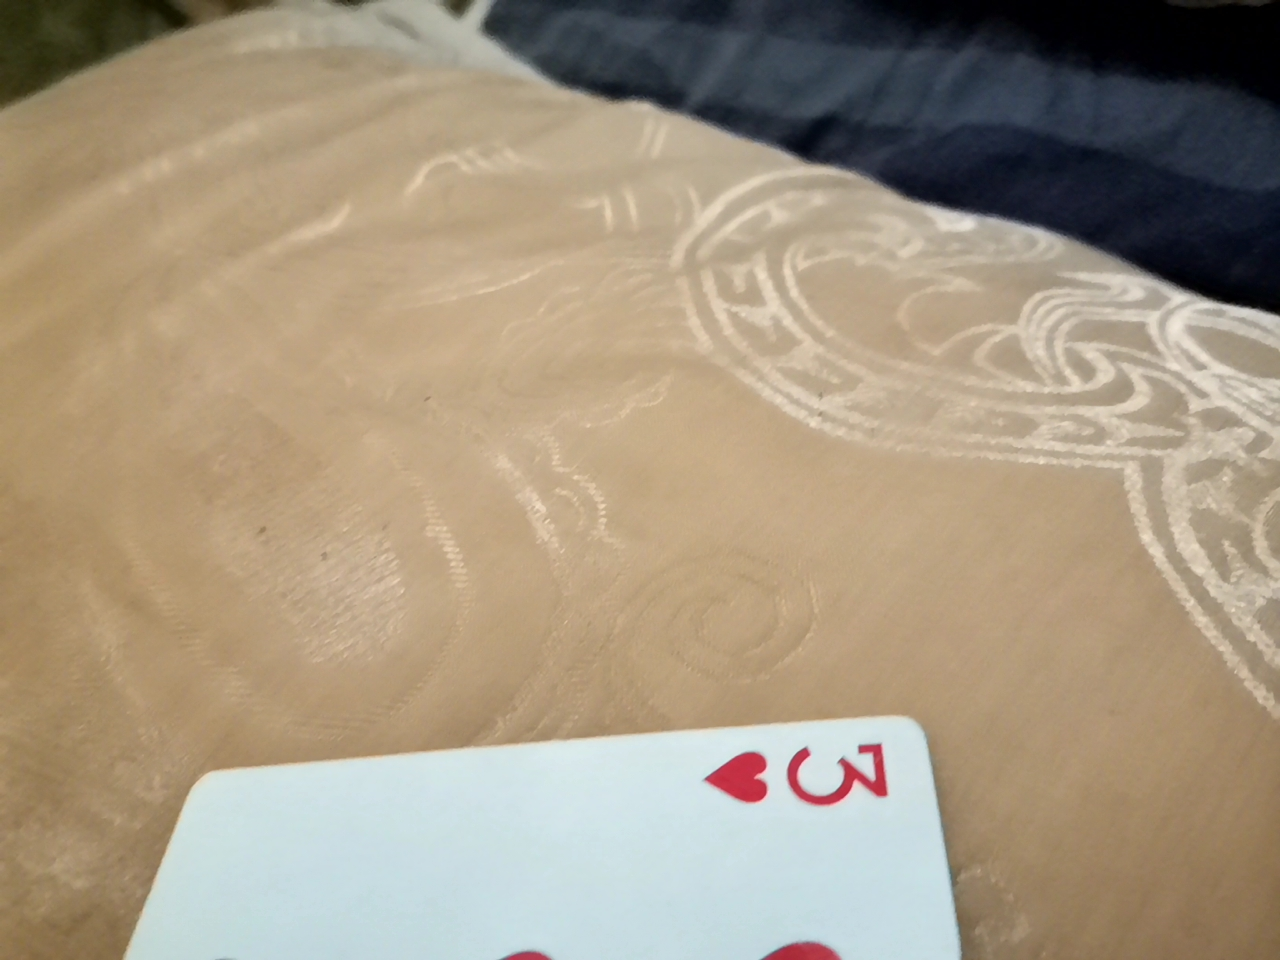hx 3: (89, 705, 972, 956)
